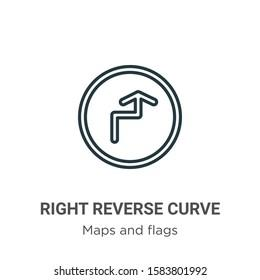Right Reverse Bend: (71, 53, 193, 172)
